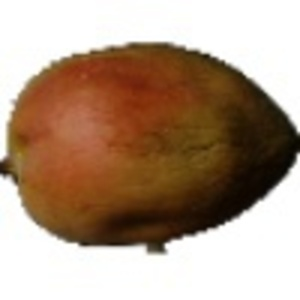mamão: (4, 38, 296, 247)
